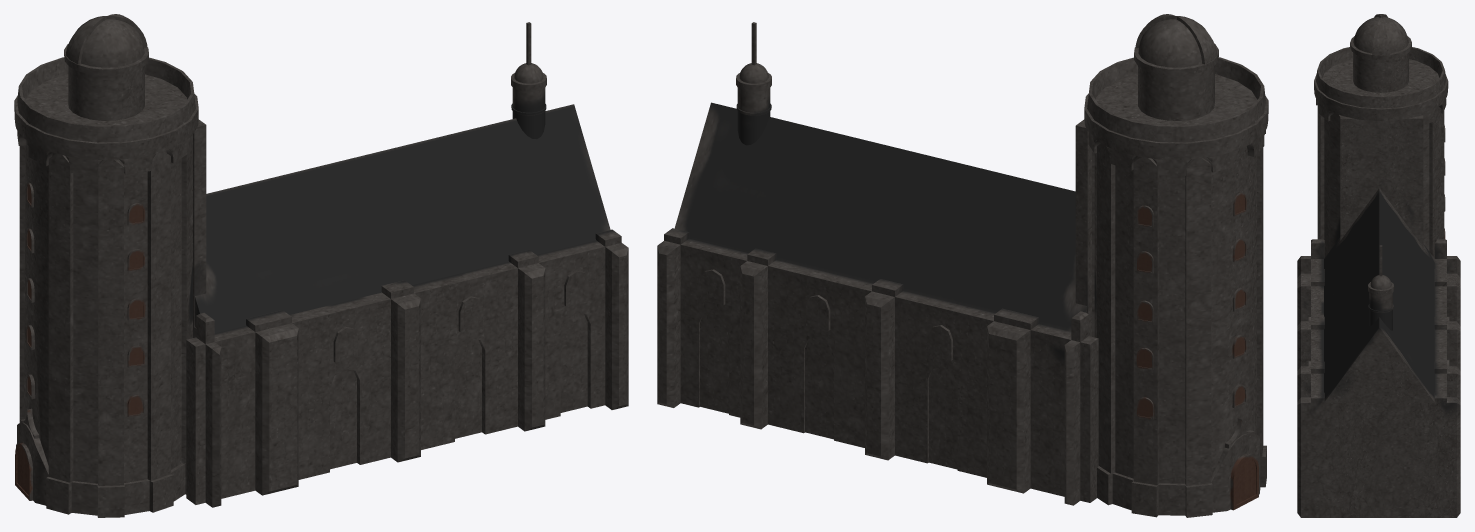
The model's file is rundetaarn.fbx.
The picture shows the model from 3 angles, left to right: view 1: azimuth 30°, elevation 25°; view 2: azimuth 150°, elevation 25°; view 3: azimuth 270°, elevation 25°; orthographic projection. The views are drawn at different scales.
Visible parts, largest first — view 1: round_tower; view 2: round_tower; view 3: round_tower.
Part boxes in pixels (x1,y1,x2,y2): round_tower: (14, 14, 628, 517); round_tower: (657, 14, 1268, 517); round_tower: (1297, 14, 1460, 517).
Bounding box in the file's own units: 129 × 105 × 46.22.
1 material, 1 textured.
